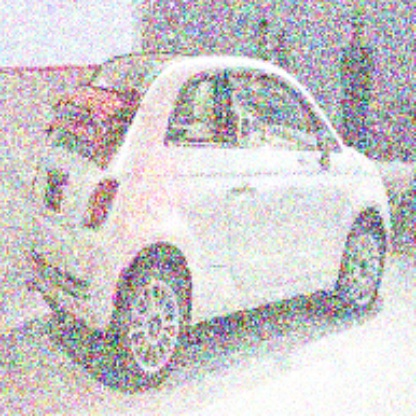Vehicle: (22, 54, 393, 386)
